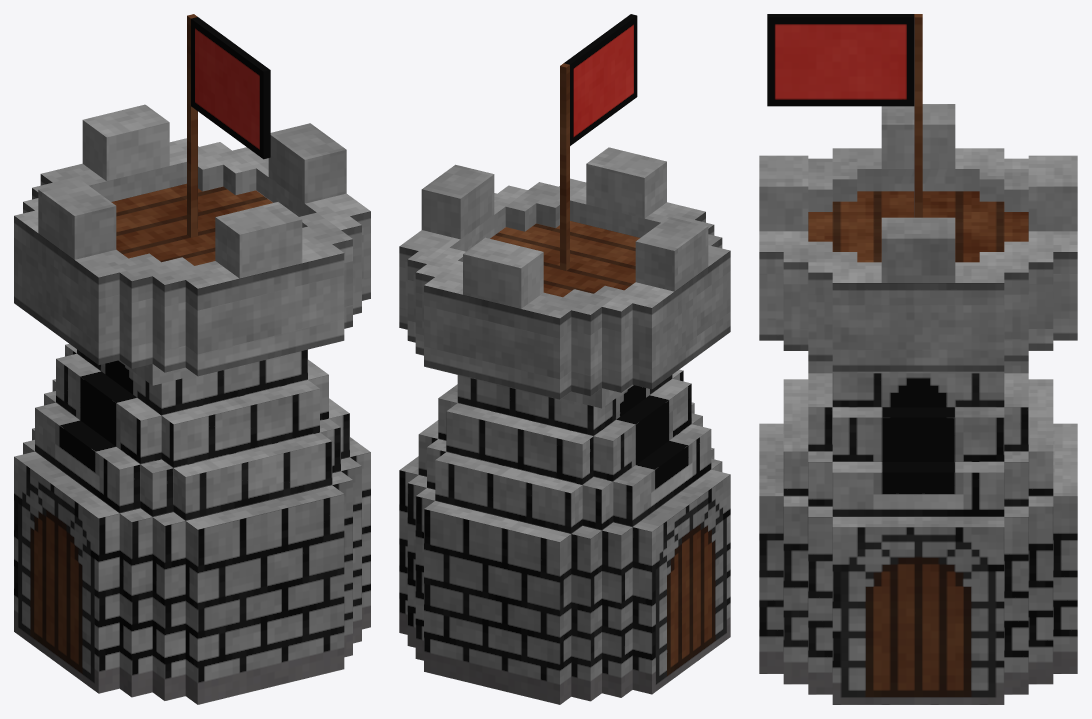
File: Wieza.fbx
3 renders of one model, left to right at view 1: azimuth 30°, elevation 25°; view 2: azimuth 150°, elevation 25°; view 3: azimuth 270°, elevation 25°, orthographic. The views are drawn at different scales.
Parts seen in each view (by area): view 1: Cube; view 2: Cube; view 3: Cube.
Part boxes in pixels (box(x1,y1,x2,y2)): Cube: box(14, 14, 370, 704); Cube: box(399, 14, 730, 704); Cube: box(759, 14, 1077, 704).
Size of the model in its own units: 975 by 2100 by 975.
